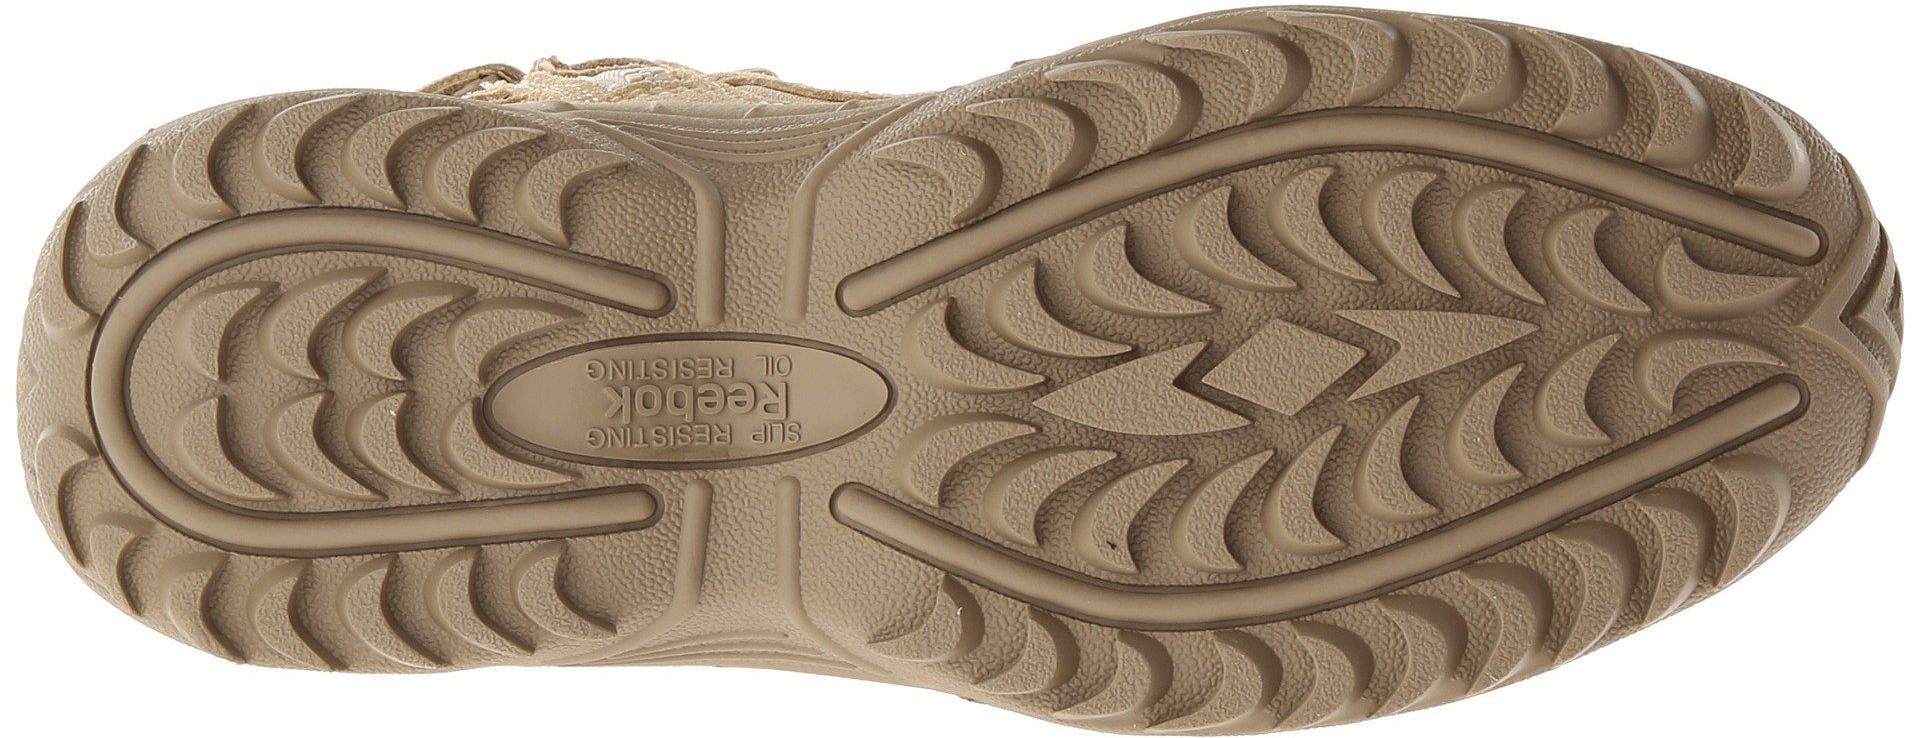chevron: (1265, 157, 1651, 553), (871, 187, 1266, 572), (176, 254, 463, 528), (1151, 534, 1362, 729), (1632, 233, 1810, 417), (244, 94, 369, 210), (244, 549, 358, 672), (1154, 620, 1282, 729), (1168, 18, 1290, 127)
ribbon: (552, 221, 687, 339), (558, 465, 679, 577)
text: (693, 357, 793, 442), (601, 355, 697, 440)
